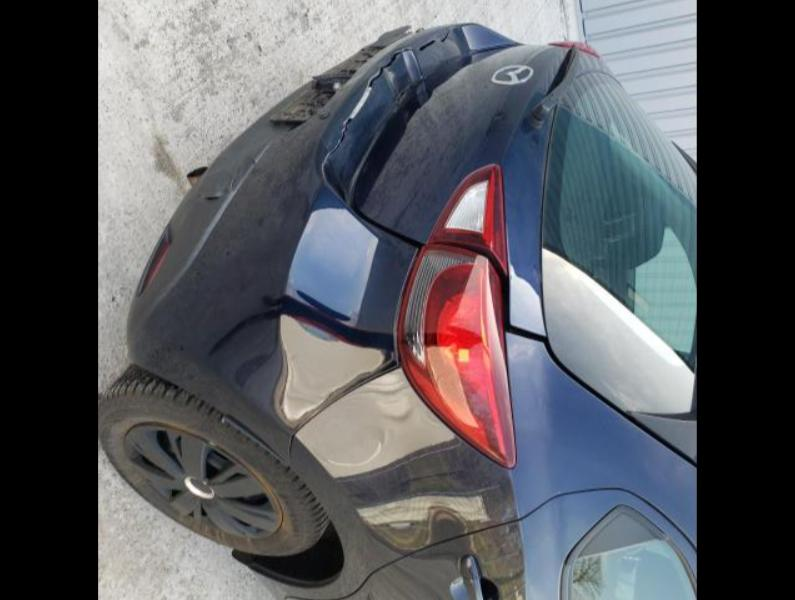Broken part: (128, 24, 514, 464), (354, 204, 628, 414)
Corrosion: (236, 460, 290, 534), (154, 420, 220, 444)
